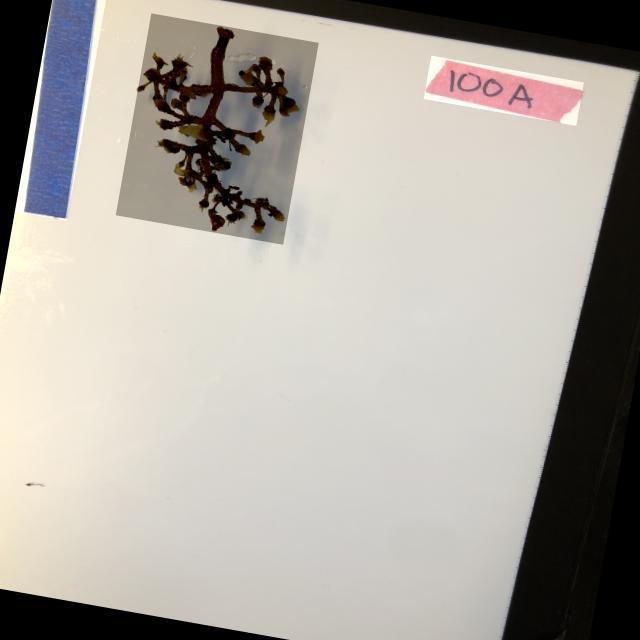index: (423, 56, 583, 126)
measure_label: (14, 0, 106, 221)
rachis_cluster: (115, 13, 318, 244)
